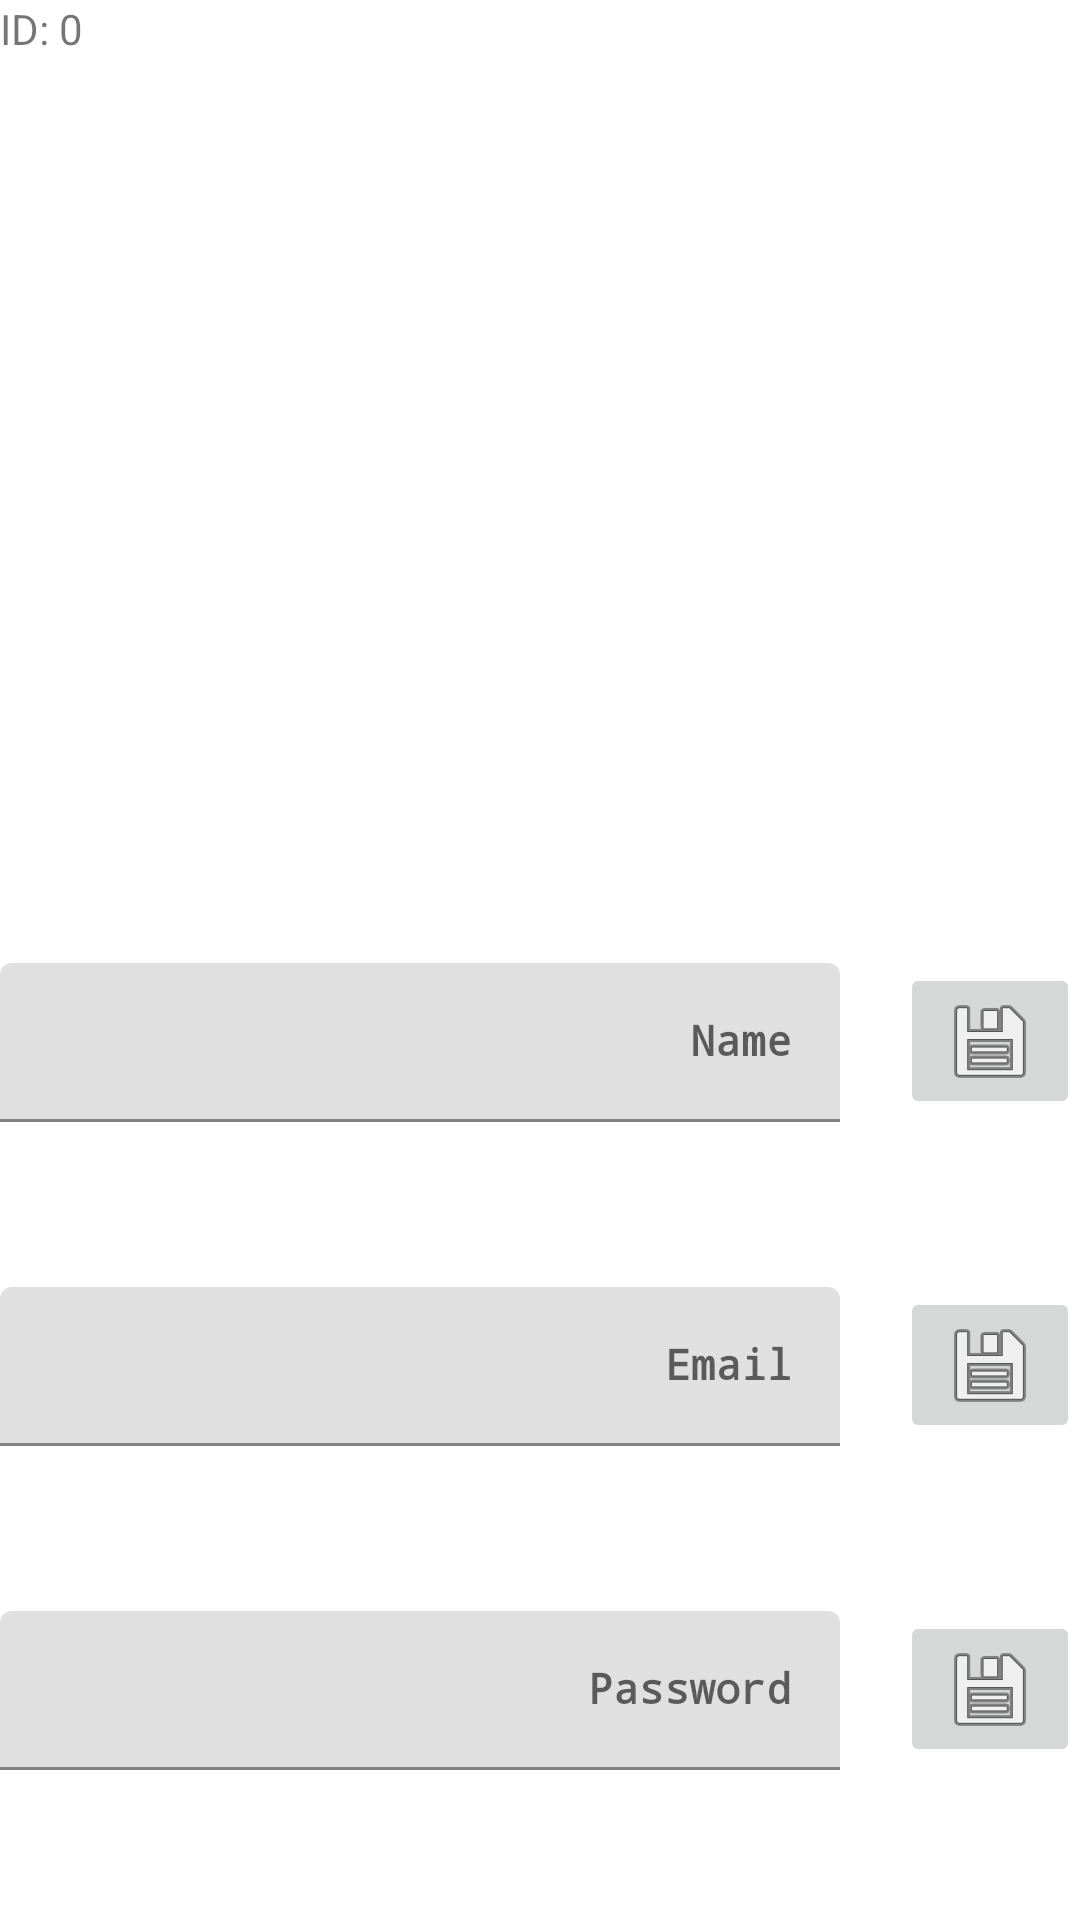

Icons on this 1080px×1920px Android screen, each with the point to tap as [x,y]:
save: [990,1041], [990,1365], [990,1689]
